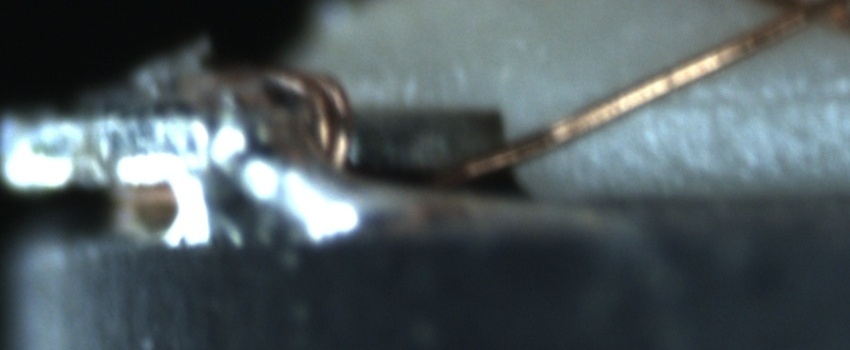CL: (758, 0, 843, 42)
DL: (652, 67, 849, 130)
TE: (254, 61, 360, 180)
